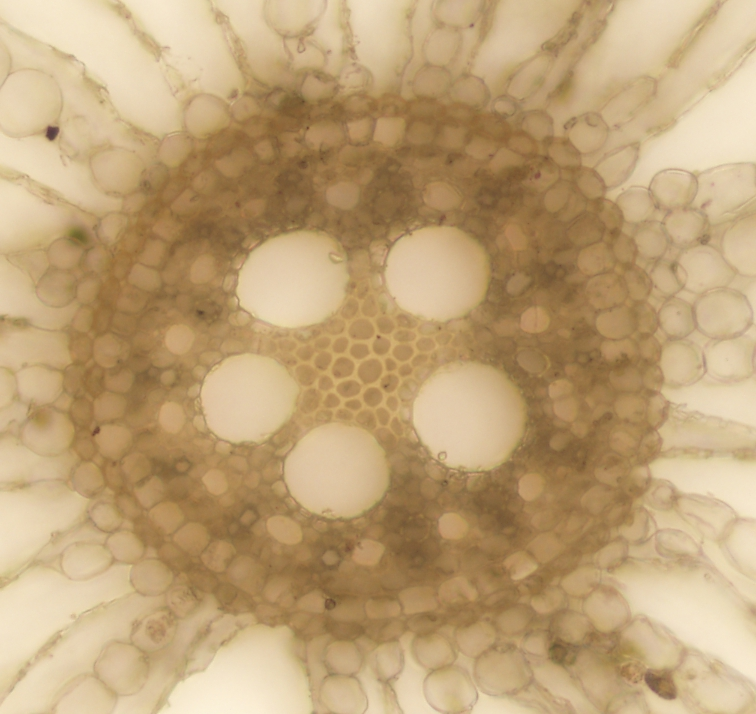lm: (409, 358, 527, 473), (234, 226, 349, 328), (281, 421, 390, 521), (383, 223, 491, 322), (200, 352, 299, 443)
